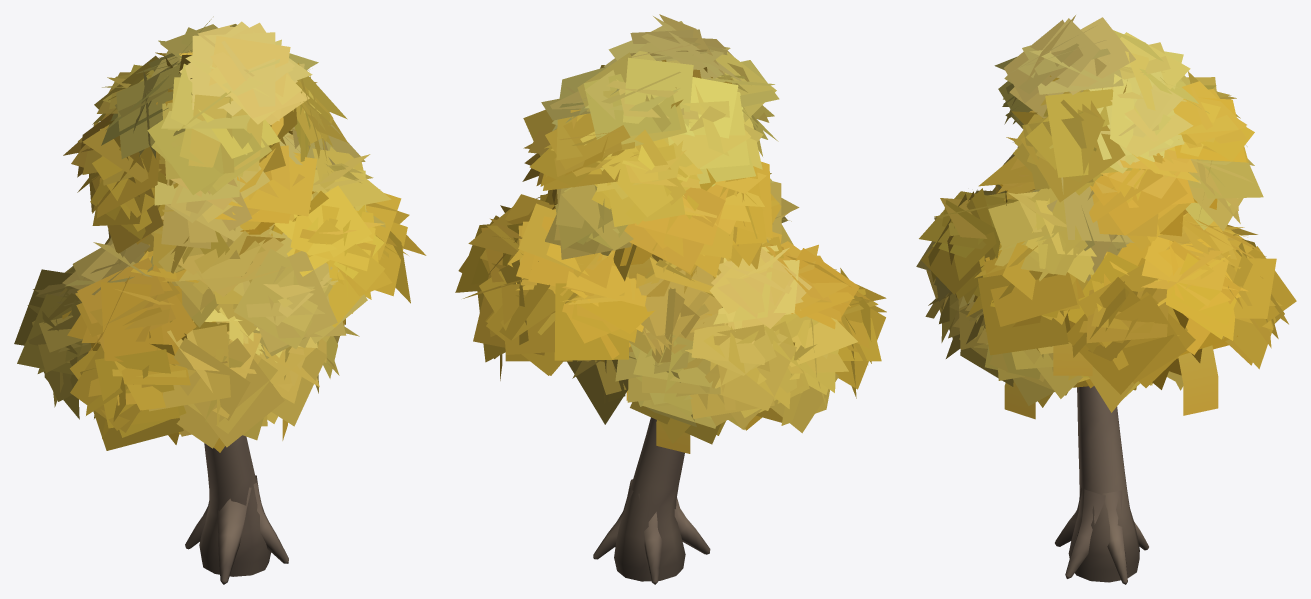
File: tree-village-ginkgo-v1.glb
3 views of the same model, side by side, from view 1: azimuth 30°, elevation 25°; view 2: azimuth 150°, elevation 25°; view 3: azimuth 270°, elevation 25° (orthographic).
Visible parts, largest first — view 1: cards_ginkgo, bark; view 2: cards_ginkgo, bark; view 3: cards_ginkgo, bark.
Part boxes in pixels (box(x1,y1,x2,y2)): cards_ginkgo: box(14, 16, 426, 452); bark: box(185, 435, 288, 584); cards_ginkgo: box(455, 14, 886, 453); bark: box(593, 417, 710, 584); cards_ginkgo: box(916, 15, 1296, 419); bark: box(1055, 386, 1148, 584).
Bounding box in the file's own units: 4.61 × 6.67 × 4.27.
